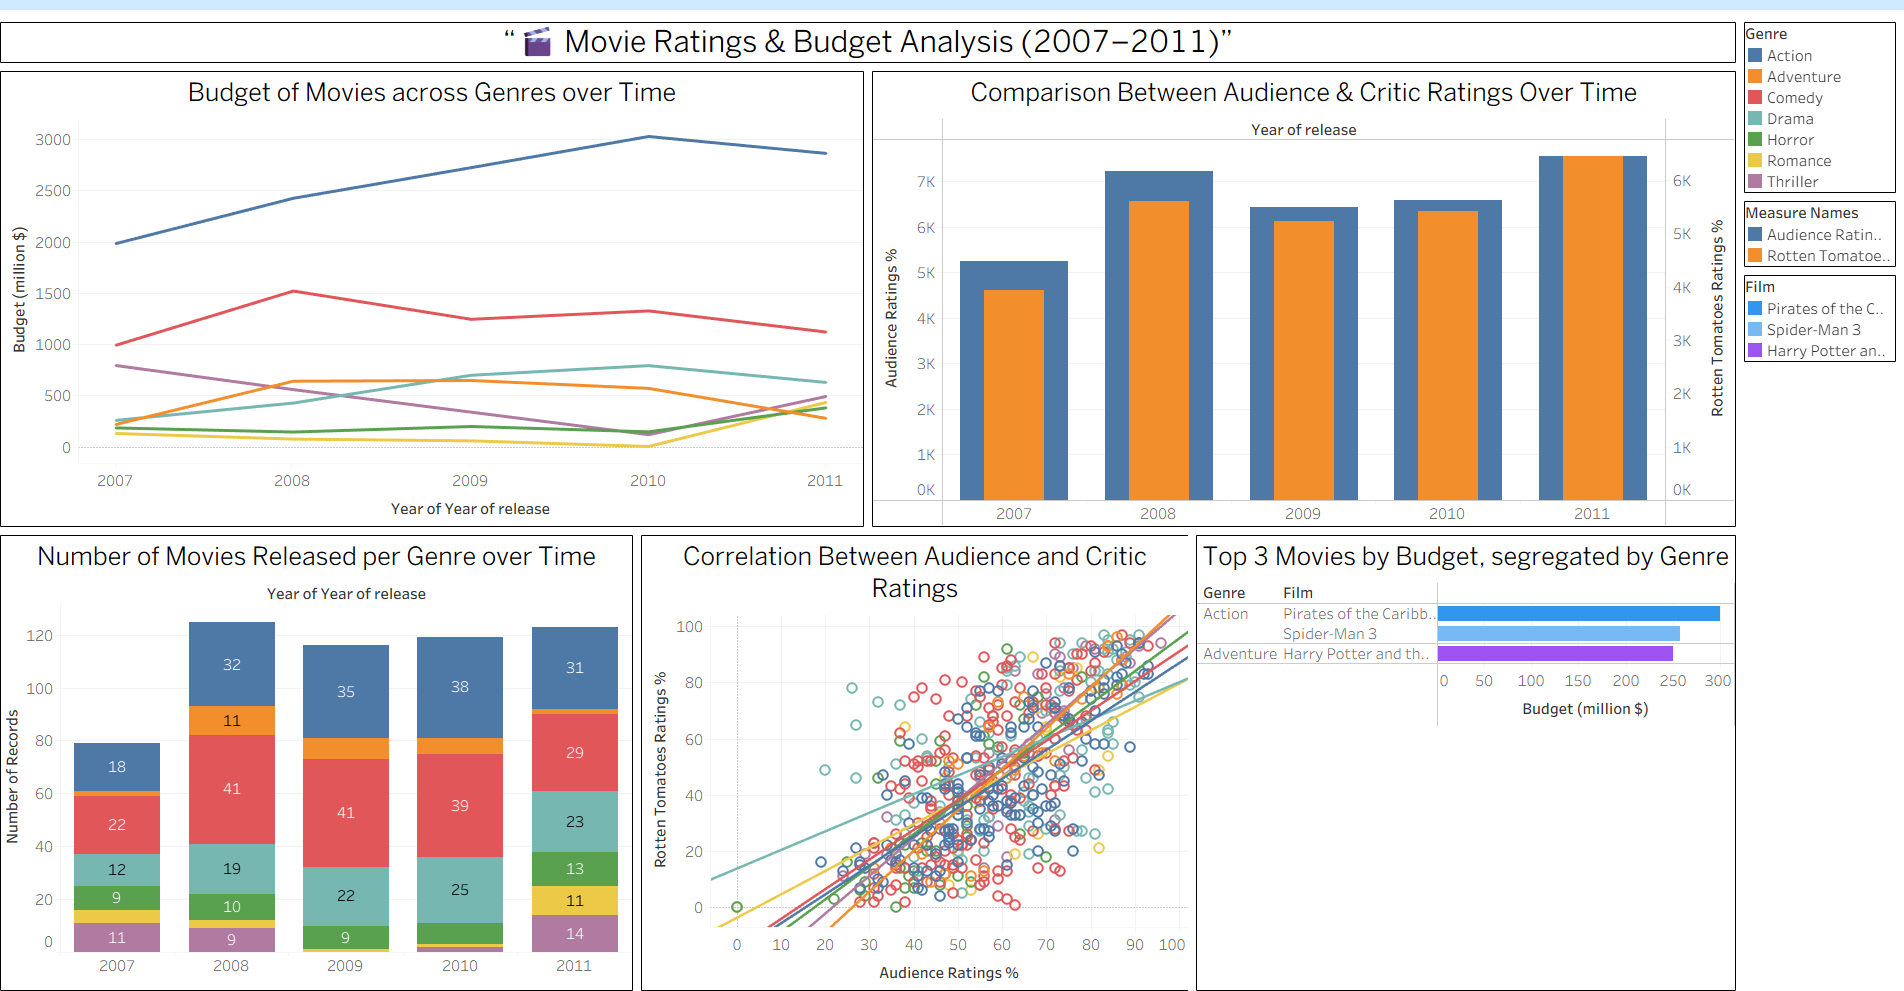

The dashboard page shown, as its layout file describes it:
{"tool":"tableau","page":{"name":"Dashboard 1","canvas":[1000,1000],"units":"permille","ordinal":0},"visuals":[{"type":"title","box":[4.8,9.2,893.8,56.6]},{"type":"legend","title":"Sheet 1","param":"[federated.1wt0pa517ond471f0jhhq13j7kvz].[none:Genre:nk]","box":[898.6,9.2,96.6,206.9]},{"type":"worksheet","title":"Sheet 1","mark":"Automatic","rows":["Budget (million $)"],"cols":["Year of release"],"box":[4.8,65.9,446.9,462.4]},{"type":"worksheet","title":"Sheet 4","mark":"Bar","rows":["Audience Ratings %","Rotten Tomatoes Ratings %"],"cols":["Year of release"],"box":[451.7,65.9,446.9,462.4]},{"type":"legend","title":"Sheet 4","param":"[federated.1wt0pa517ond471f0jhhq13j7kvz].[:Measure Names]","box":[898.6,216.2,96.6,85.5]},{"type":"legend","title":"Sheet 5","param":"[federated.1wt0pa517ond471f0jhhq13j7kvz].[none:Film:nk]","box":[898.6,301.7,96.6,109.8]},{"type":"worksheet","title":"Sheet 3","mark":"Bar","rows":["Number of Records"],"cols":["Year of release"],"box":[4.8,528.3,328.3,462.4]},{"type":"worksheet","title":"Sheet 2","mark":"Automatic","rows":["Rotten Tomatoes Ratings %"],"cols":["Audience Ratings %"],"box":[333.1,528.3,284.9,462.4]},{"type":"worksheet","title":"Sheet 5","mark":"Automatic","rows":["Genre","Film"],"cols":["Budget (million $)"],"box":[618,528.3,280.6,462.4]}]}

Visuals, with their boxes on the dashboard's canvas, which has no fixed pixel size, in thousandths of its width and height (x1, y1, x2, y2). These are canvas units, not pixel positions in the 1904x991 screenshot, which may show the page scaled, cropped or inside an application window:
title: [5,9,899,66]
"Sheet 1" legend: [899,9,995,216]
"Sheet 1" worksheet: [5,66,452,528]
"Sheet 4" worksheet (Bar marks): [452,66,899,528]
"Sheet 4" legend: [899,216,995,302]
"Sheet 5" legend: [899,302,995,412]
"Sheet 3" worksheet (Bar marks): [5,528,333,991]
"Sheet 2" worksheet: [333,528,618,991]
"Sheet 5" worksheet: [618,528,899,991]
